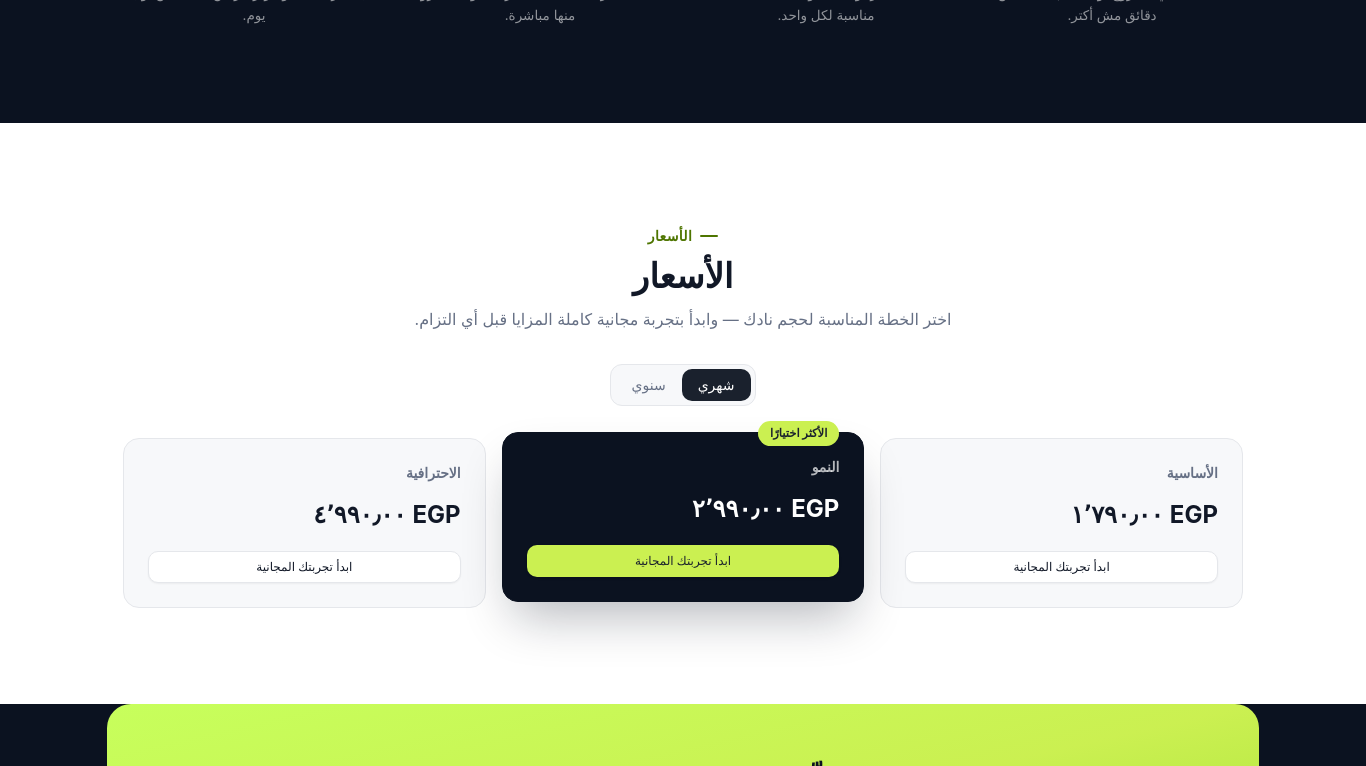
Test: Homepage/PricingPage pricing unification › HomePage pricing preview › 4/5/6. correct monthly/annual prices and annual discounts render (Starter/Growth/Pro)
(page scrolled)
Click the button "سنوي".
click(649, 385)  # box [616, 369, 682, 401]
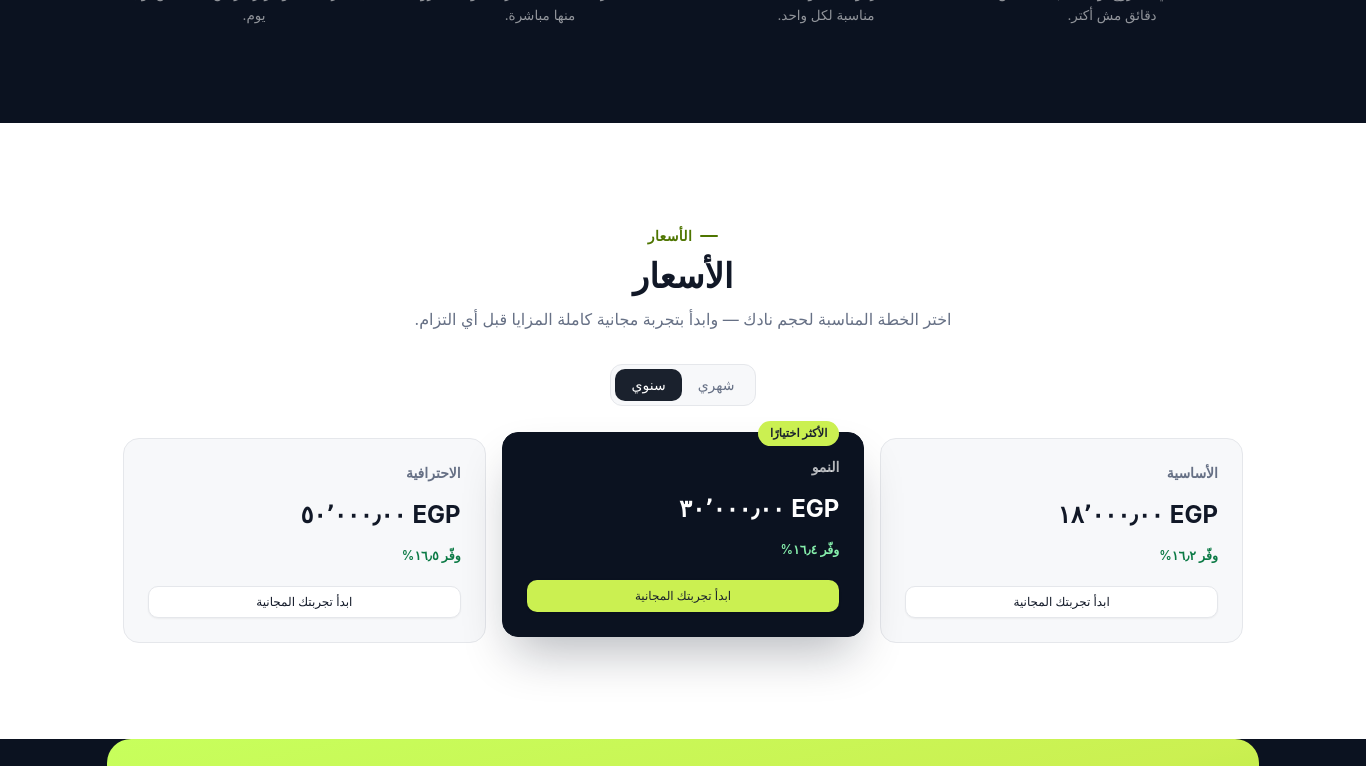
Expected: the text "وفّر ١٦٫٢ %" is shown, [1159, 548, 1218, 563]
Expected: the text "وفّر ١٦٫٤ %" is shown, [780, 542, 839, 557]
Expected: the text "وفّر ١٦٫٥ %" is shown, [402, 548, 461, 563]
